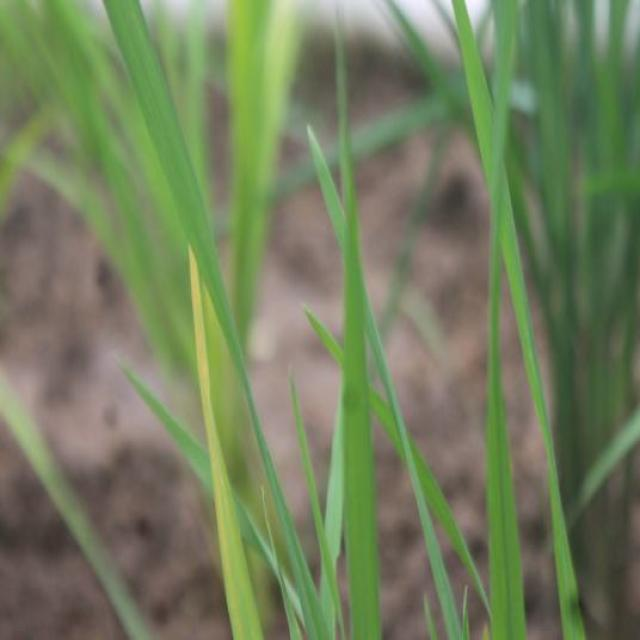Rice Tungro: (183, 293, 213, 452)
